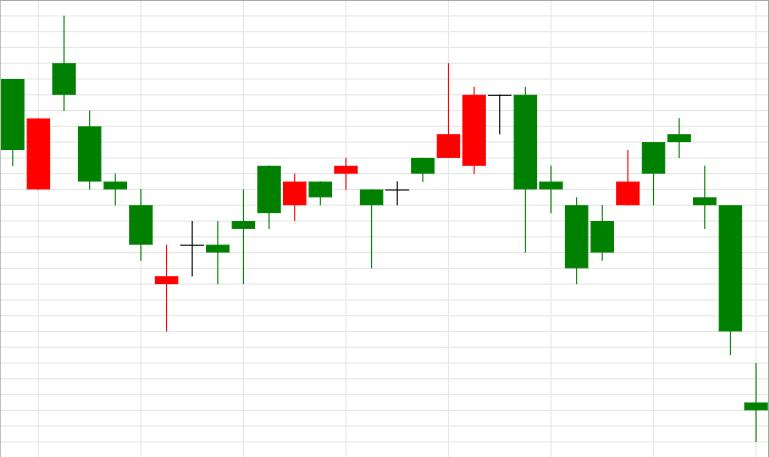shooting_star_fall: (359, 63, 460, 267)
